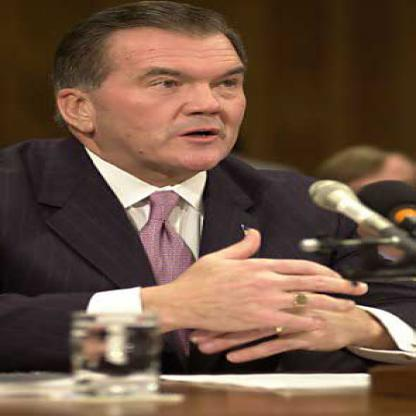face: (86, 8, 260, 178)
